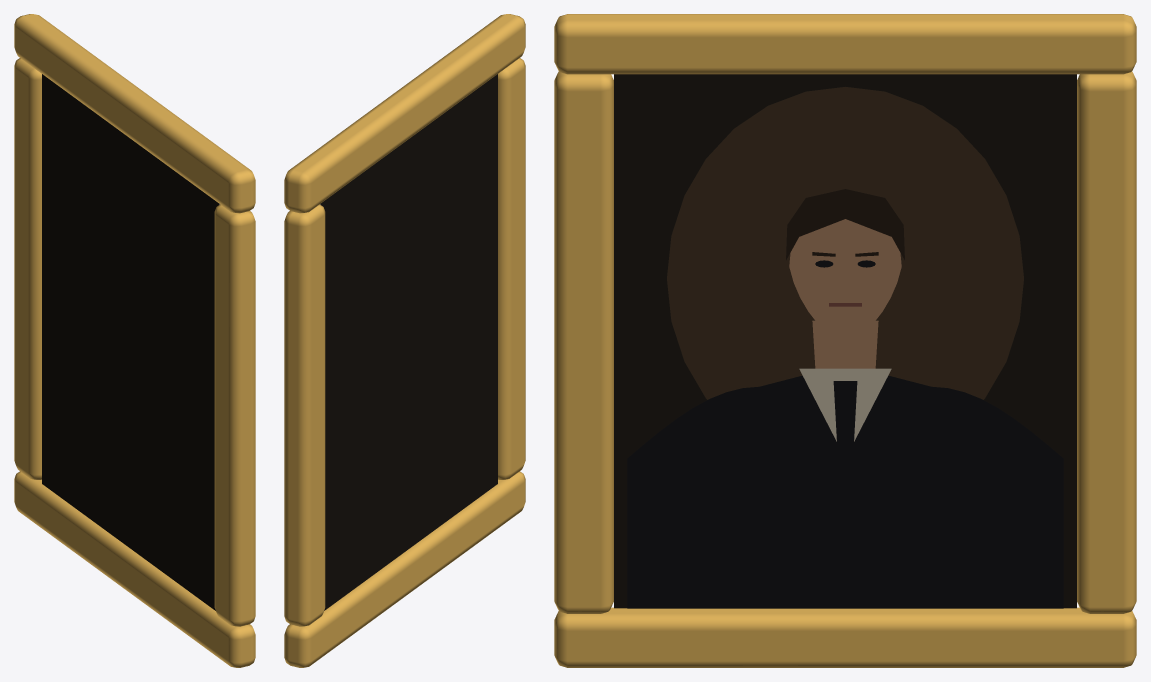
The model's file is painting_portrait.glb.
3 renders of one model, left to right at view 1: azimuth 30°, elevation 25°; view 2: azimuth 150°, elevation 25°; view 3: azimuth 270°, elevation 25°, orthographic. The views are drawn at different scales.
Visible parts, largest first — view 1: grund, rahmen.003, rahmen, rahmen.002, rahmen.001; view 2: grund, rahmen.002, rahmen, rahmen.003, rahmen.001; view 3: rock, schein, grund, rahmen, rahmen.001, rahmen.002, rahmen.003, gesicht, haar, hemd, hals, krawatte.
Boxes of the visible parts, <box> form: grund: <box>42,74,219,610</box>; rahmen.003: <box>214,204,255,626</box>; rahmen: <box>14,14,255,213</box>; rahmen.002: <box>14,58,41,479</box>; rahmen.001: <box>14,471,255,667</box>; grund: <box>320,74,497,610</box>; rahmen.002: <box>284,204,325,626</box>; rahmen: <box>284,14,525,213</box>; rahmen.003: <box>498,58,525,479</box>; rahmen.001: <box>284,471,525,667</box>; rock: <box>627,375,1063,608</box>; schein: <box>667,87,1023,399</box>; grund: <box>614,74,1076,608</box>; rahmen: <box>554,14,1136,74</box>; rahmen.001: <box>554,607,1136,667</box>; rahmen.002: <box>1077,71,1136,613</box>; rahmen.003: <box>554,71,613,613</box>; gesicht: <box>789,219,901,338</box>; haar: <box>786,189,904,260</box>; hemd: <box>799,368,891,441</box>; hals: <box>812,320,878,368</box>; krawatte: <box>833,381,857,464</box>.
Size of the model in its own units: 0.06 by 1.08 by 0.88.
